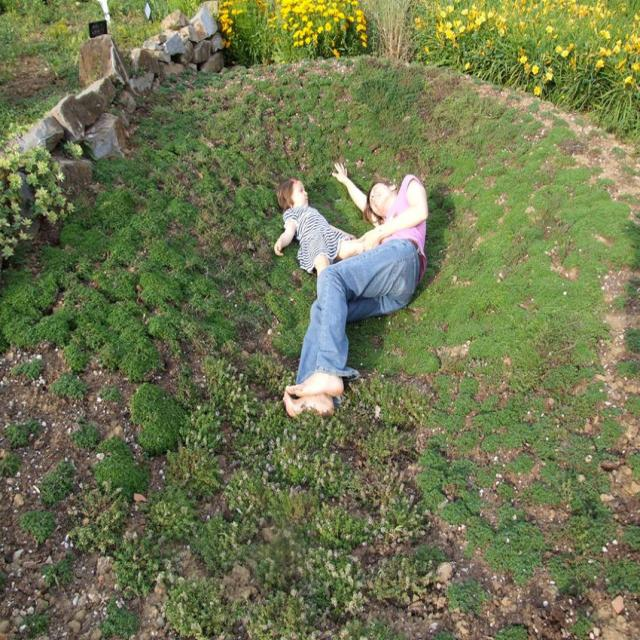down: (284, 150, 428, 420), (256, 168, 386, 293)
